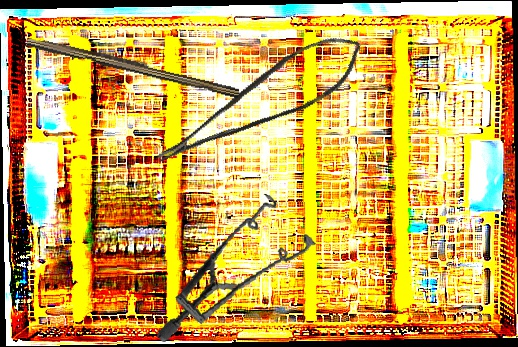Micro Scissor: (137, 23, 378, 171)
Scalpel Handle: (24, 33, 242, 99)
Speculum: (137, 187, 329, 343)
